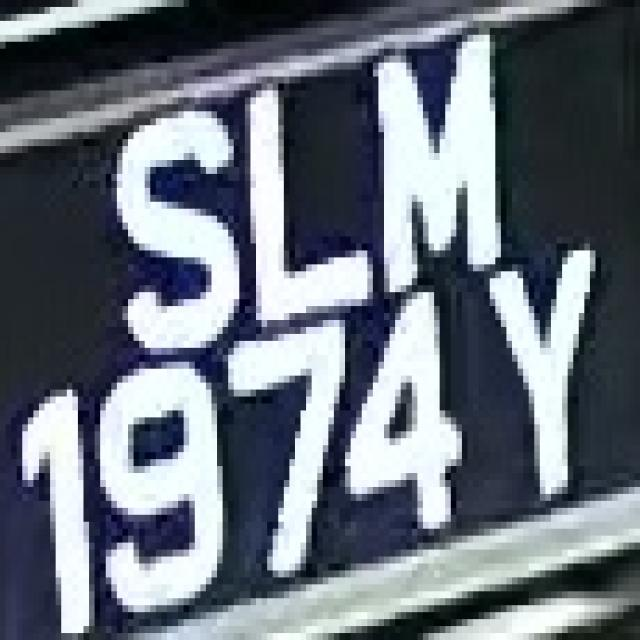1: (16, 369, 106, 633)
4: (312, 272, 462, 556)
7: (212, 306, 368, 598)
9: (94, 341, 245, 612)
L: (240, 56, 378, 334)
M: (339, 35, 506, 299)
S: (83, 83, 234, 355)
Y: (468, 236, 612, 515)
